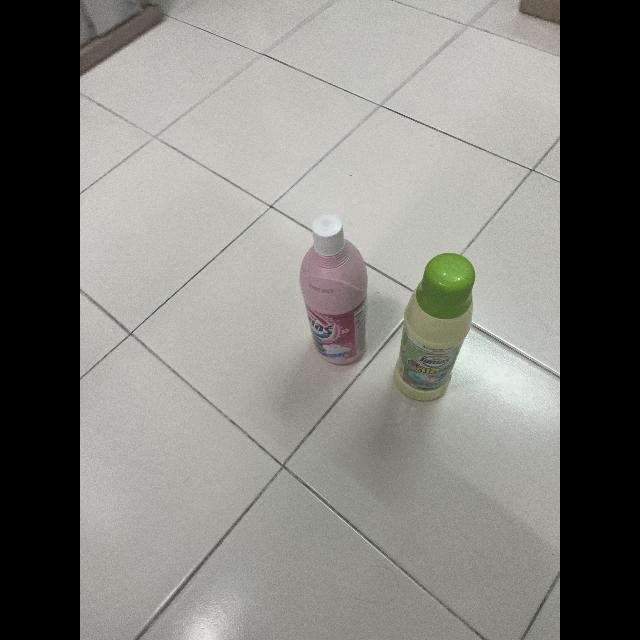chemical_plastic_bottle: (392, 246, 480, 396), (296, 211, 372, 369)
